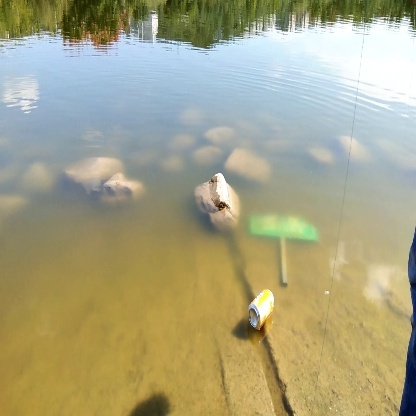bottle: (240, 284, 280, 341)
